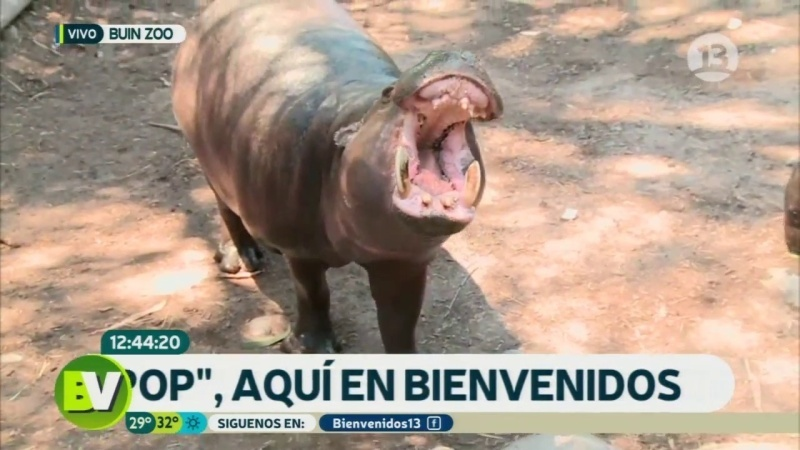hipopotamo: (165, 4, 499, 356)
